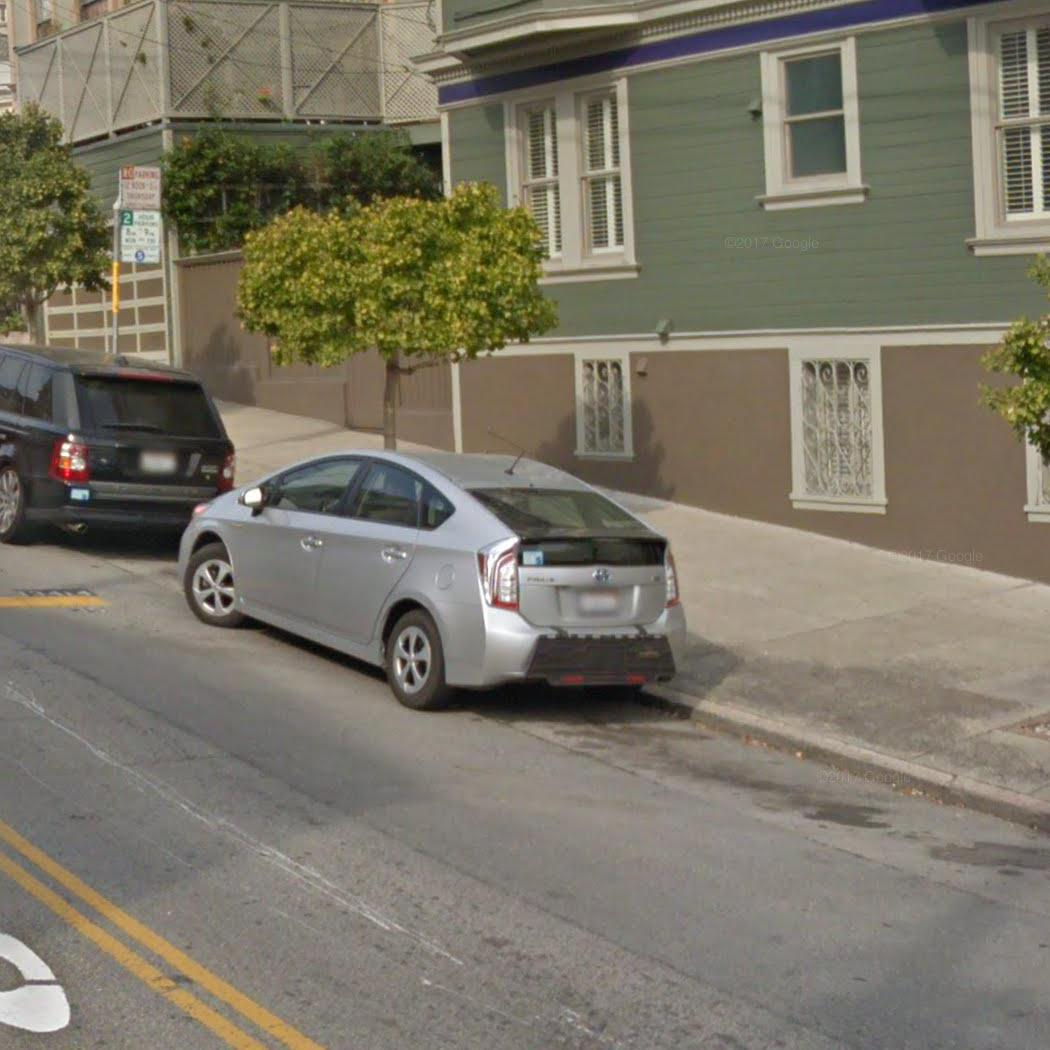2 Hour Parking: (116, 205, 164, 265)
No Parking: (115, 164, 164, 209)
